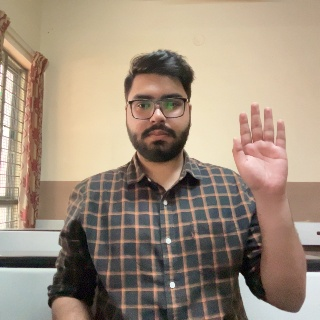Face: (123, 51, 193, 161)
Hello: (231, 101, 291, 204)
